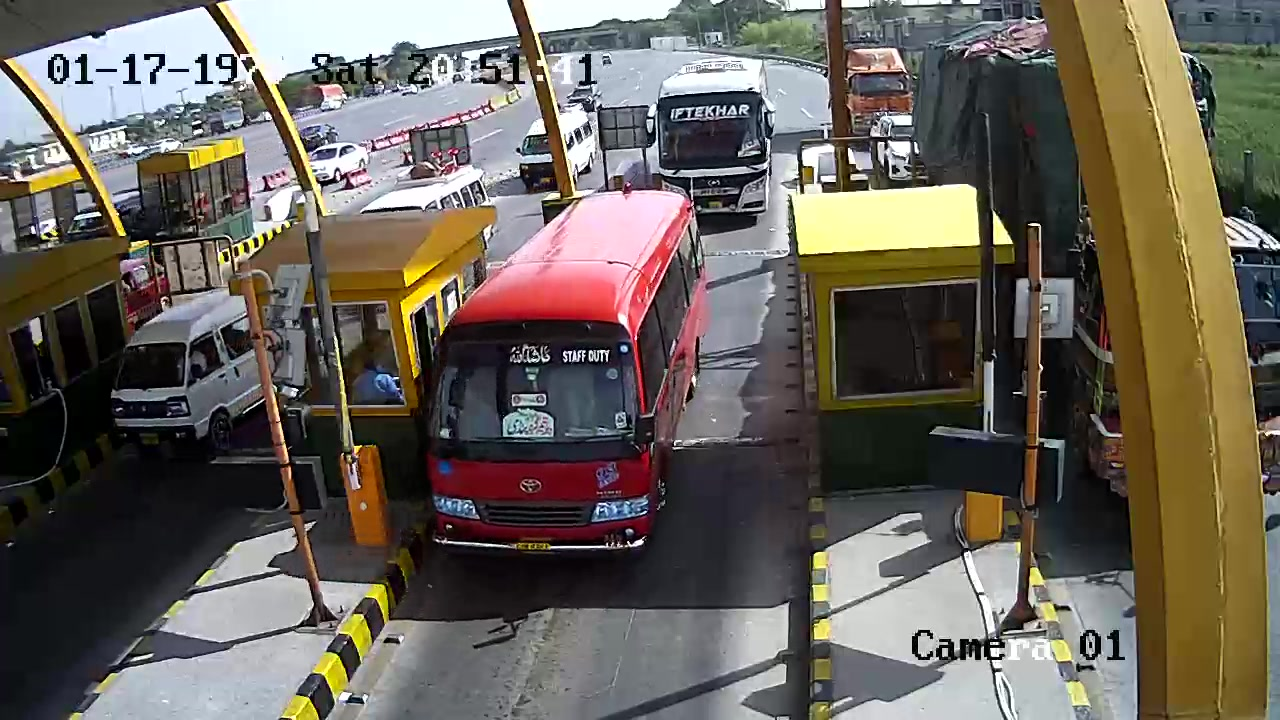F3: (434, 191, 701, 557)
